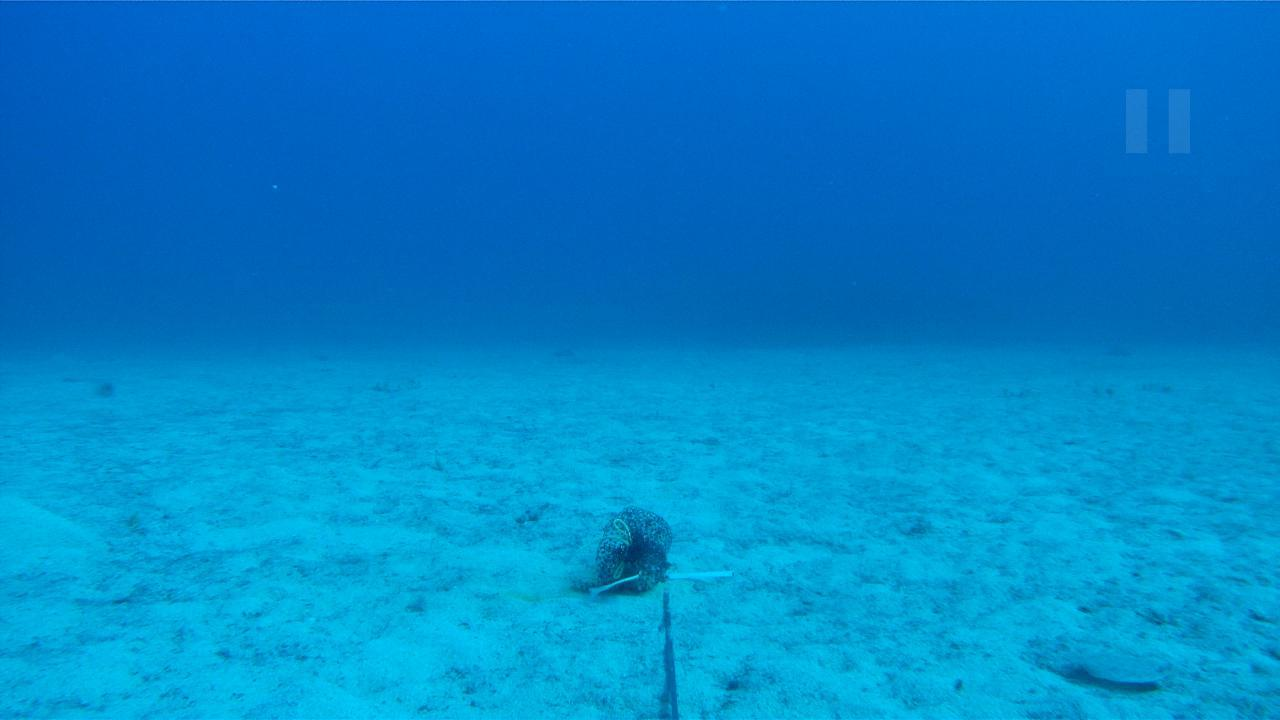bothus: (1058, 648, 1176, 689)
